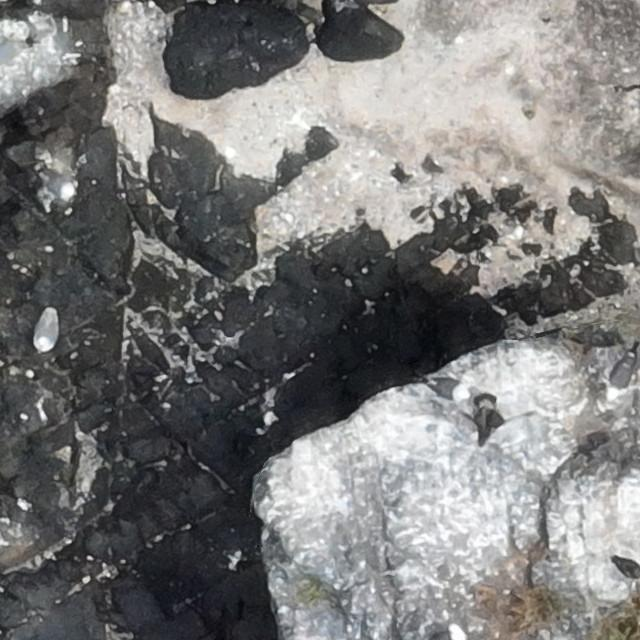umineko: (609, 351, 635, 402), (36, 310, 58, 350), (434, 378, 472, 399), (42, 176, 74, 197), (615, 560, 640, 578)
